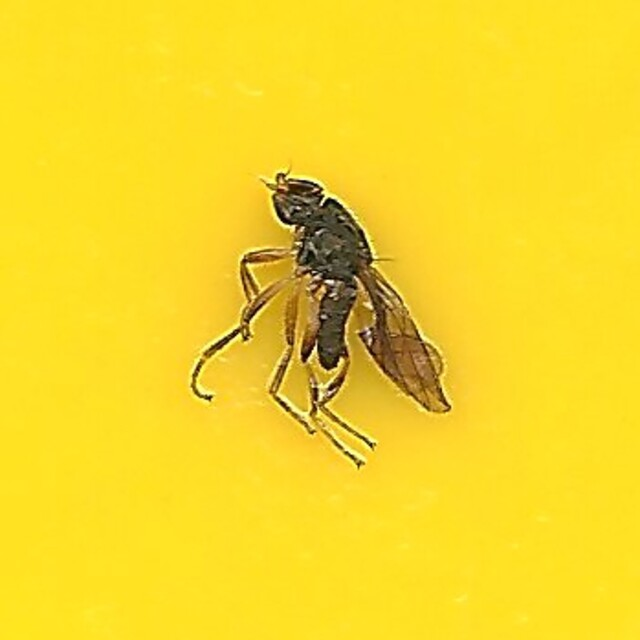Brachycera: (183, 172, 457, 468)
